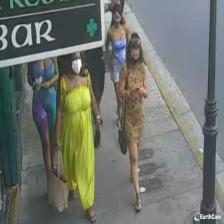person: (55, 48, 99, 222), (118, 32, 146, 210), (104, 4, 132, 126)
